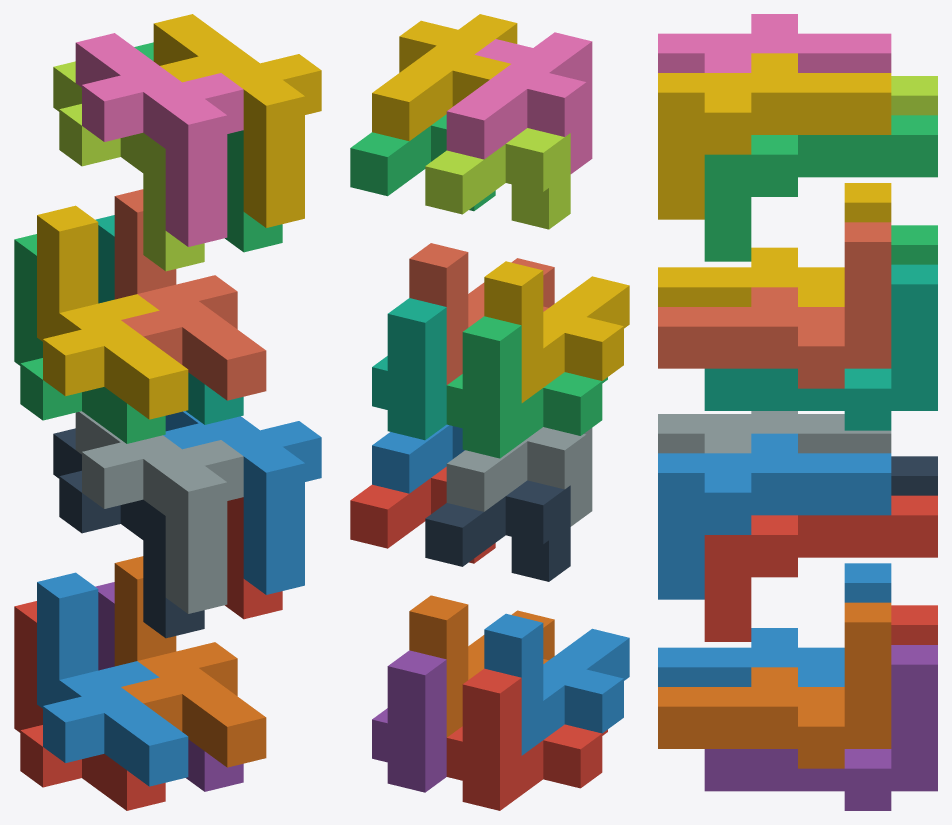
File: tiling.obj
3 views of the same model, side by side, from view 1: azimuth 30°, elevation 25°; view 2: azimuth 150°, elevation 25°; view 3: azimuth 270°, elevation 25° (orthographic). The views are drawn at different scales.
Visible parts, largest first — view 1: copy_2_domain_4, copy_1_domain_4, copy_1_domain_2, copy_2_domain_2, copy_2_domain_8, copy_1_domain_8, copy_1_domain_6, copy_2_domain_6, copy_2_domain_1, copy_1_domain_3, copy_2_domain_3, copy_1_domain_1 (+4 smaller); view 2: copy_2_domain_4, copy_1_domain_1, copy_1_domain_3, copy_1_domain_4, copy_1_domain_2, copy_2_domain_8, copy_2_domain_1, copy_2_domain_3, copy_1_domain_5, copy_1_domain_7, copy_2_domain_2, copy_1_domain_6 (+4 smaller); view 3: copy_2_domain_6, copy_1_domain_8, copy_1_domain_6, copy_2_domain_8, copy_2_domain_5, copy_2_domain_7, copy_1_domain_7, copy_1_domain_5, copy_1_domain_4, copy_1_domain_2, copy_2_domain_4, copy_2_domain_2 (+4 smaller).
Part boxes in pixels (bbox=[...]): copy_2_domain_4: bbox=[75, 33, 243, 246]; copy_1_domain_4: bbox=[37, 205, 188, 419]; copy_1_domain_2: bbox=[37, 572, 188, 786]; copy_2_domain_2: bbox=[75, 411, 243, 613]; copy_2_domain_8: bbox=[153, 14, 321, 227]; copy_1_domain_8: bbox=[114, 189, 266, 400]; copy_1_domain_6: bbox=[114, 556, 266, 767]; copy_2_domain_6: bbox=[163, 411, 321, 594]; copy_2_domain_1: bbox=[53, 428, 204, 638]; copy_1_domain_3: bbox=[14, 234, 165, 443]; copy_2_domain_3: bbox=[53, 61, 204, 271]; copy_1_domain_1: bbox=[14, 601, 165, 810]; copy_2_domain_4: bbox=[446, 32, 592, 173]; copy_1_domain_1: bbox=[446, 668, 607, 810]; copy_1_domain_3: bbox=[446, 316, 607, 458]; copy_1_domain_4: bbox=[484, 261, 629, 402]; copy_1_domain_2: bbox=[484, 613, 629, 755]; copy_2_domain_8: bbox=[372, 14, 517, 141]; copy_2_domain_1: bbox=[425, 480, 570, 581]; copy_2_domain_3: bbox=[425, 128, 570, 229]; copy_1_domain_5: bbox=[372, 650, 446, 792]; copy_1_domain_7: bbox=[372, 298, 446, 440]; copy_2_domain_2: bbox=[446, 427, 592, 526]; copy_1_domain_6: bbox=[409, 595, 554, 737]; copy_2_domain_6: bbox=[658, 433, 891, 599]; copy_1_domain_8: bbox=[658, 222, 891, 388]; copy_1_domain_6: bbox=[658, 602, 891, 768]; copy_2_domain_8: bbox=[658, 53, 891, 219]; copy_2_domain_5: bbox=[704, 495, 937, 641]; copy_2_domain_7: bbox=[704, 115, 937, 261]; copy_1_domain_7: bbox=[704, 264, 937, 430]; copy_1_domain_5: bbox=[704, 645, 937, 810]; copy_1_domain_4: bbox=[658, 183, 891, 306]; copy_1_domain_2: bbox=[658, 563, 891, 686]; copy_2_domain_4: bbox=[658, 14, 891, 72]; copy_2_domain_2: bbox=[658, 411, 891, 453].
Size of the model in its own units: 6 by 17 by 6.
